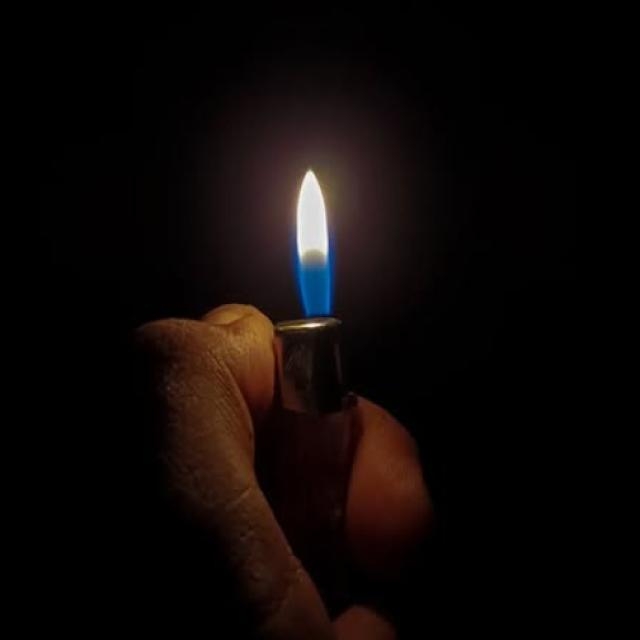fire: (296, 167, 332, 317)
